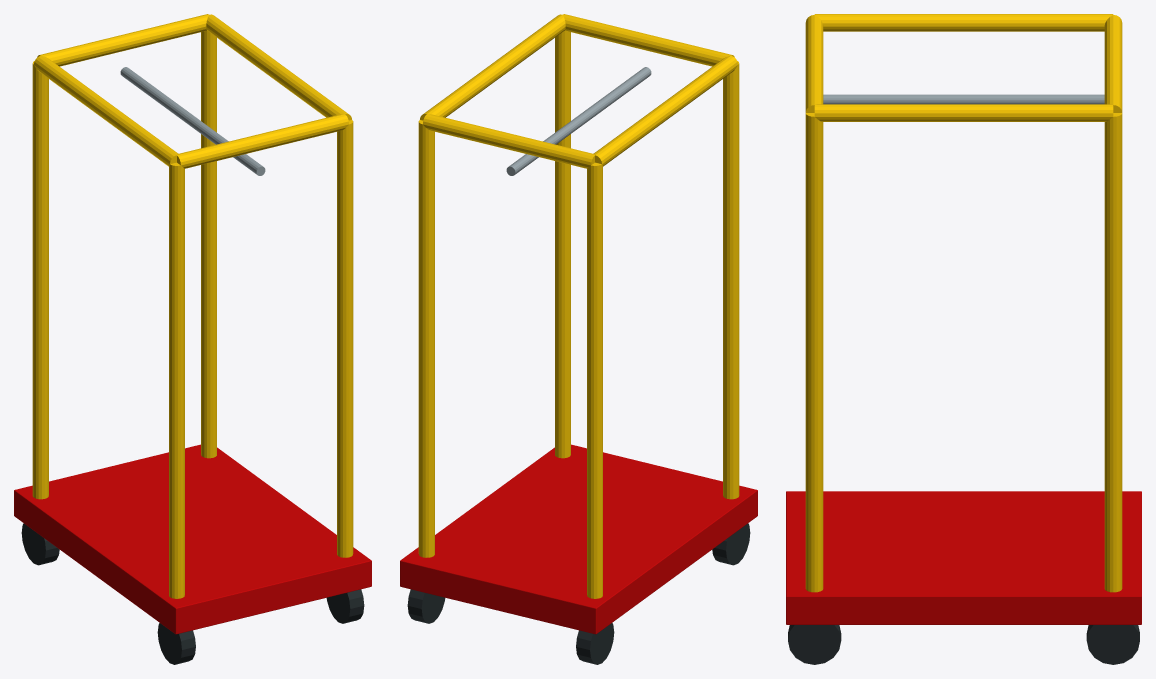
The model's file is hotel-luggage-cart.glb.
3 views of the same model, side by side, from view 1: azimuth 30°, elevation 25°; view 2: azimuth 150°, elevation 25°; view 3: azimuth 270°, elevation 25° (orthographic). The views are drawn at different scales.
Parts seen in each view (by area): view 1: Carpet_Deck, Pillar.002, Pillar.001, Pillar, Pillar.003, Top_Cross_Rail, Top_Long_Rail, Top_Long_Rail.001, Top_Cross_Rail.001, Garment_Bar, Caster.001, Caster.003 (+1 smaller); view 2: Carpet_Deck, Pillar.003, Pillar, Pillar.001, Pillar.002, Top_Cross_Rail.001, Top_Long_Rail, Top_Long_Rail.001, Top_Cross_Rail, Garment_Bar, Caster.002, Caster (+1 smaller); view 3: Carpet_Deck, Pillar.002, Pillar.003, Top_Long_Rail.001, Top_Long_Rail, Garment_Bar, Caster, Caster.003, Top_Cross_Rail, Top_Cross_Rail.001.
Part boxes in pixels (<box>): Carpet_Deck: <box>14,444,371,634</box>; Pillar.002: <box>337,120,353,557</box>; Pillar.001: <box>32,61,48,499</box>; Pillar: <box>169,162,184,598</box>; Pillar.003: <box>201,30,216,458</box>; Top_Cross_Rail: <box>177,114,348,168</box>; Top_Long_Rail: <box>34,55,178,166</box>; Top_Long_Rail.001: <box>206,14,351,120</box>; Top_Cross_Rail.001: <box>37,14,208,66</box>; Garment_Bar: <box>120,67,265,175</box>; Caster.001: <box>157,623,195,664</box>; Caster.003: <box>326,589,364,623</box>; Carpet_Deck: <box>400,444,757,634</box>; Pillar.003: <box>418,120,434,557</box>; Pillar: <box>723,61,739,499</box>; Pillar.001: <box>587,162,602,598</box>; Pillar.002: <box>555,30,570,458</box>; Top_Cross_Rail.001: <box>423,114,594,168</box>; Top_Long_Rail: <box>593,55,737,166</box>; Top_Long_Rail.001: <box>420,14,565,120</box>; Top_Cross_Rail: <box>563,14,734,66</box>; Garment_Bar: <box>506,67,651,175</box>; Caster.002: <box>576,623,614,664</box>; Caster: <box>407,589,445,623</box>; Carpet_Deck: <box>786,491,1141,624</box>; Pillar.002: <box>805,113,823,592</box>; Pillar.003: <box>1104,113,1122,592</box>; Top_Long_Rail.001: <box>814,104,1113,121</box>; Top_Long_Rail: <box>814,14,1113,31</box>; Garment_Bar: <box>823,94,1104,104</box>; Caster: <box>1086,625,1139,664</box>; Caster.003: <box>788,625,841,664</box>; Top_Cross_Rail: <box>805,15,823,112</box>; Top_Cross_Rail.001: <box>1104,15,1122,112</box>.
Size of the model in its own units: 0.7 by 1.73 by 1.
